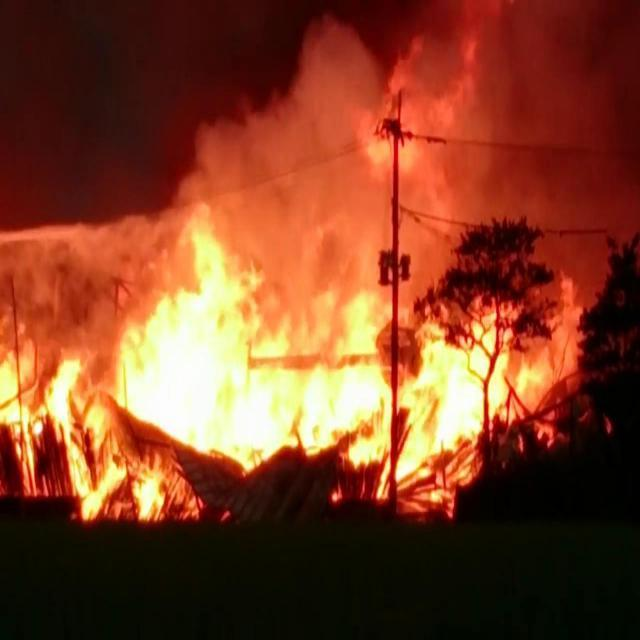Fire: (0, 207, 640, 527)
Smoke: (232, 10, 586, 254)
